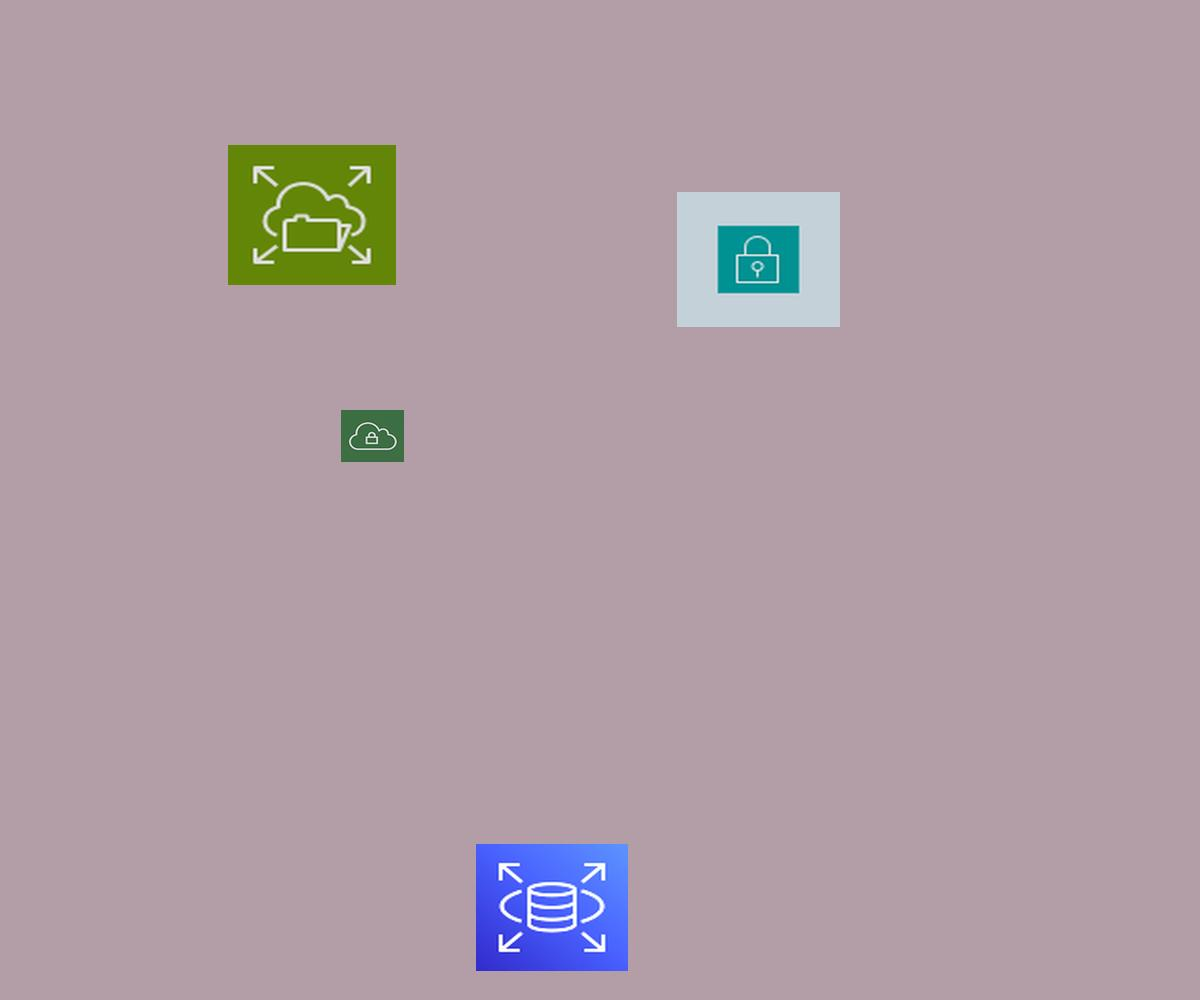AWS-EFS: (228, 145, 396, 285)
AWS-Private-subnet: (677, 192, 840, 327)
AWS-Private_vpc: (341, 410, 404, 462)
AWS-RDS: (476, 844, 628, 971)
